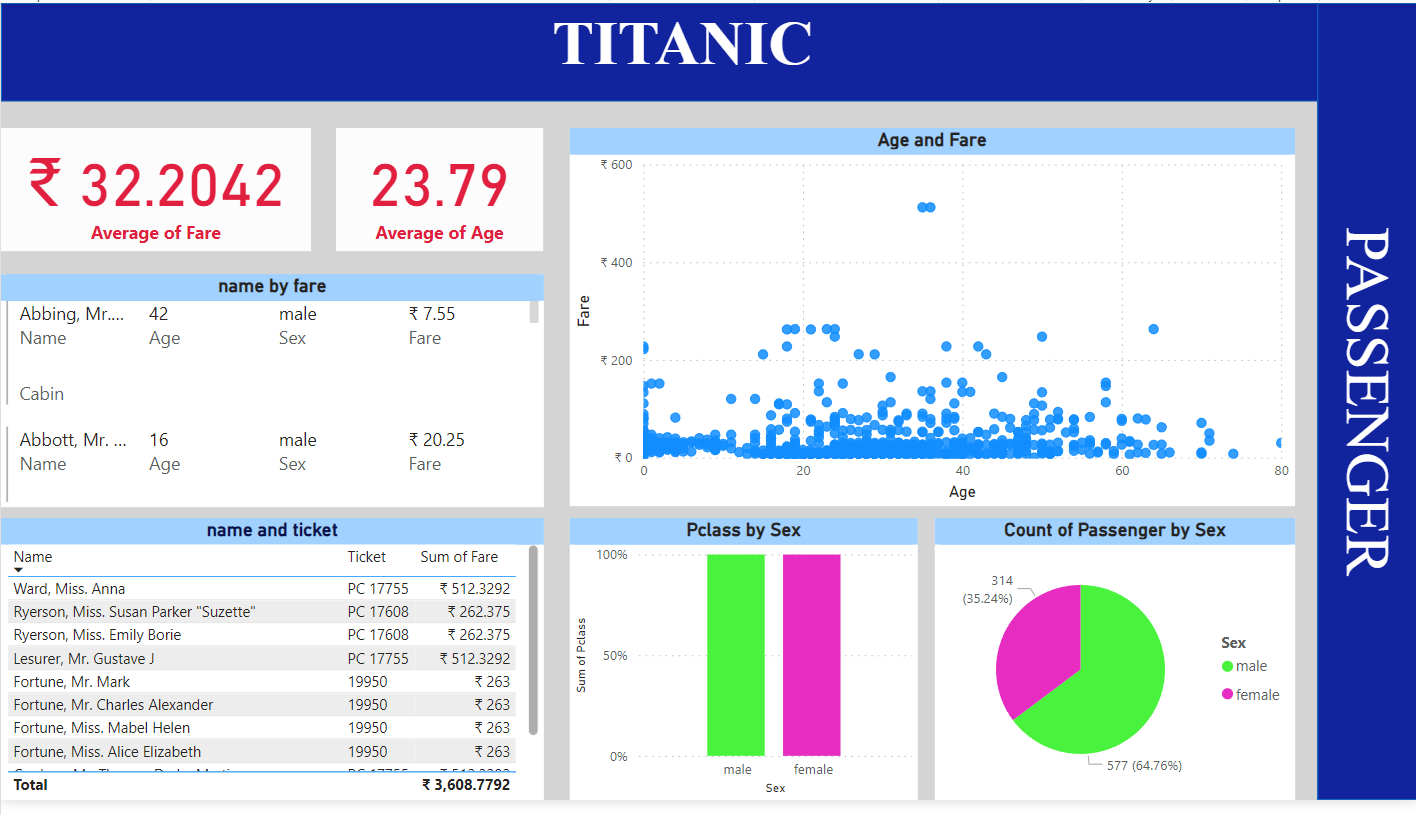

The page's visual inventory and layout, read from the dashboard file:
{"tool":"powerbi","page":{"name":"dashboard","canvas":[1280,720],"ordinal":11},"visuals":[{"type":"hundredPercentStackedColumnChart","title":" Pclass by Sex","fields":{"Y":["Titanic-Dataset.Pclass"],"Category":["Titanic-Dataset.Sex"]},"box":[514.3,465.1,314.3,254.9],"z":0},{"type":"scatterChart","fields":{"X":["Titanic-Dataset.Age"],"Y":["Titanic-Dataset.Fare"]},"box":[514.3,113.1,654.9,341.7],"z":1000},{"type":"card","fields":{"Values":["Titanic-Dataset.Fare"]},"box":[0,113.1,280,110.9],"z":2000},{"type":"card","fields":{"Values":["Titanic-Dataset.Age"]},"box":[302.9,113.1,187.4,110.9],"z":3000},{"type":"multiRowCard","title":"name by fare","fields":{"Values":["Titanic-Dataset.Name","Titanic-Dataset.Age","Titanic-Dataset.Sex","Titanic-Dataset.Fare","Titanic-Dataset.Cabin"]},"box":[0,244.6,490.3,210.3],"z":4000},{"type":"tableEx","title":"name and ticket","fields":{"Values":["Titanic-Dataset.Name","Titanic-Dataset.Ticket","Titanic-Dataset.Fare"]},"box":[0,465.1,490.3,254.9],"z":5000},{"type":"pieChart","title":"Count of Passenger by Sex","fields":{"Category":["Titanic-Dataset.Sex"],"Y":["Titanic-Dataset.PassengerId"]},"box":[843.4,465.1,325.7,254.9],"z":6000},{"type":"shape","box":[0,0,1280,89.1],"z":7000},{"type":"shape","box":[1188.6,0,91.4,720],"z":8000},{"type":"textbox","box":[290.3,0,651.4,113.1],"z":9000}]}

Visuals, with their boxes in screenshot pixels (x1, y1, x2, y2), scaled from the page's 1280x720 canvas onto the 1416x815 screenshot:
" Pclass by Sex" hundredPercentStackedColumnChart: (569, 526, 917, 814)
scatterChart - Titanic-Dataset.Age x Titanic-Dataset.Fare: (569, 128, 1293, 515)
card - Titanic-Dataset.Fare: (0, 128, 310, 254)
card - Titanic-Dataset.Age: (335, 128, 542, 254)
"name by fare" multiRowCard: (0, 277, 542, 515)
"name and ticket" tableEx: (0, 526, 542, 814)
"Count of Passenger by Sex" pieChart: (933, 526, 1293, 814)
shape: (0, 0, 1415, 101)
shape: (1315, 0, 1415, 814)
textbox: (321, 0, 1042, 128)
